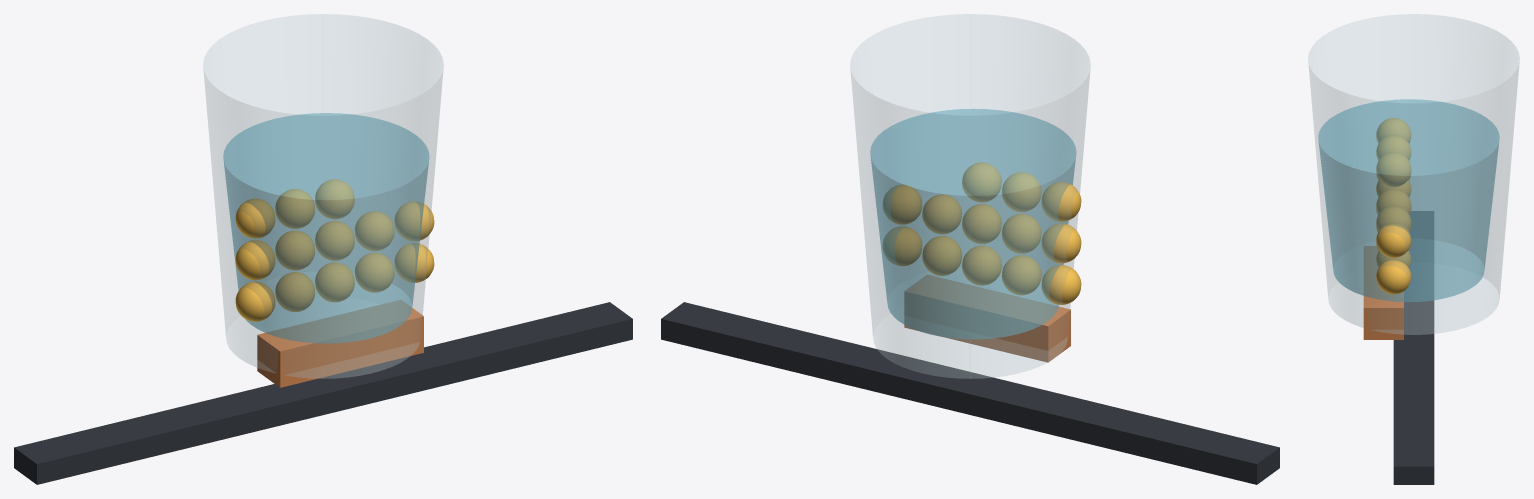
File: chem-solutions-saturation.glb
3 renders of one model, left to right at view 1: azimuth 30°, elevation 25°; view 2: azimuth 150°, elevation 25°; view 3: azimuth 270°, elevation 25°, orthographic. The views are drawn at different scales.
Visible parts, largest first — view 1: saturated-solution-beaker-glass, saturated-solution-beaker-liquid, solutions-lab-bench, undissolved-crystal-pile-bottom, dissolved-solute-full-particle-10, dissolved-solute-full-particle-5, dissolved-solute-full-particle-3, dissolved-solute-full-particle-0, dissolved-solute-full-particle-2, dissolved-solute-full-particle-4, dissolved-solute-full-particle-9, dissolved-solute-full-particle-6 (+5 smaller); view 2: saturated-solution-beaker-glass, saturated-solution-beaker-liquid, solutions-lab-bench, undissolved-crystal-pile-bottom, dissolved-solute-full-particle-5, dissolved-solute-full-particle-0, dissolved-solute-full-particle-1, dissolved-solute-full-particle-10, dissolved-solute-full-particle-2, dissolved-solute-full-particle-11, dissolved-solute-full-particle-8, dissolved-solute-full-particle-12 (+5 smaller); view 3: saturated-solution-beaker-glass, saturated-solution-beaker-liquid, solutions-lab-bench, undissolved-crystal-pile-bottom, dissolved-solute-full-particle-4, dissolved-solute-full-particle-9, dissolved-solute-full-particle-12, dissolved-solute-full-particle-8, dissolved-solute-full-particle-7, dissolved-solute-full-particle-11, dissolved-solute-full-particle-10, dissolved-solute-full-particle-3 (+1 smaller).
Boxes of the visible parts, x1,y1,x2,y2 form: saturated-solution-beaker-glass: (203, 14, 443, 378); saturated-solution-beaker-liquid: (223, 113, 429, 343); solutions-lab-bench: (14, 302, 632, 484); undissolved-crystal-pile-bottom: (257, 300, 423, 387); dissolved-solute-full-particle-10: (235, 198, 275, 238); dissolved-solute-full-particle-5: (235, 240, 275, 280); dissolved-solute-full-particle-3: (354, 252, 394, 292); dissolved-solute-full-particle-0: (235, 281, 275, 321); dissolved-solute-full-particle-2: (315, 262, 354, 302); dissolved-solute-full-particle-4: (394, 243, 434, 282); dissolved-solute-full-particle-9: (394, 201, 434, 241); dissolved-solute-full-particle-6: (275, 230, 314, 270); saturated-solution-beaker-glass: (850, 14, 1090, 378); saturated-solution-beaker-liquid: (870, 108, 1076, 339); solutions-lab-bench: (661, 302, 1279, 484); undissolved-crystal-pile-bottom: (904, 275, 1070, 362); dissolved-solute-full-particle-5: (1041, 223, 1081, 263); dissolved-solute-full-particle-0: (1041, 265, 1081, 304); dissolved-solute-full-particle-1: (1001, 255, 1041, 295); dissolved-solute-full-particle-10: (1041, 182, 1081, 221); dissolved-solute-full-particle-2: (962, 245, 1001, 285); dissolved-solute-full-particle-11: (1001, 172, 1041, 212); dissolved-solute-full-particle-8: (922, 194, 962, 234); dissolved-solute-full-particle-12: (962, 162, 1001, 202); saturated-solution-beaker-glass: (1308, 14, 1519, 334); saturated-solution-beaker-liquid: (1318, 99, 1499, 302); solutions-lab-bench: (1393, 211, 1434, 484); undissolved-crystal-pile-bottom: (1363, 246, 1403, 339); dissolved-solute-full-particle-4: (1376, 259, 1411, 294); dissolved-solute-full-particle-9: (1376, 222, 1411, 257); dissolved-solute-full-particle-12: (1376, 152, 1411, 187); dissolved-solute-full-particle-8: (1376, 205, 1411, 230); dissolved-solute-full-particle-7: (1376, 188, 1411, 213); dissolved-solute-full-particle-11: (1376, 135, 1411, 160); dissolved-solute-full-particle-10: (1376, 118, 1411, 143); dissolved-solute-full-particle-3: (1376, 250, 1411, 267).
Size of what is drawn, in the model's own units: 2.4 by 1.3 by 0.84.
